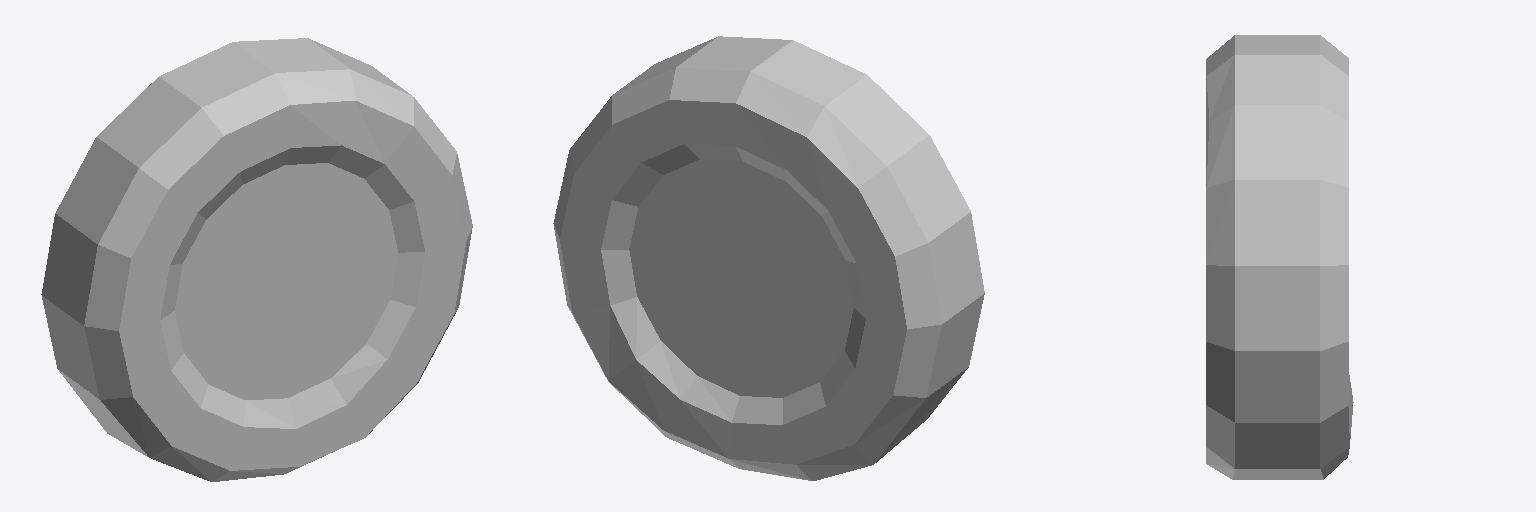
Rendered from truck_wheel.obj.
3 views of the same model, side by side, from view 1: azimuth 30°, elevation 25°; view 2: azimuth 150°, elevation 25°; view 3: azimuth 270°, elevation 25° (orthographic).
Visible parts, largest first — view 1: wheel.004_ID38.008; view 2: wheel.004_ID38.008; view 3: wheel.004_ID38.008.
Boxes of the visible parts, <box> form: wheel.004_ID38.008: <box>41,38,472,481</box>; wheel.004_ID38.008: <box>553,36,984,480</box>; wheel.004_ID38.008: <box>1206,35,1353,479</box>.
Bounding box in the file's own units: 9.84 × 9.68 × 3.23.